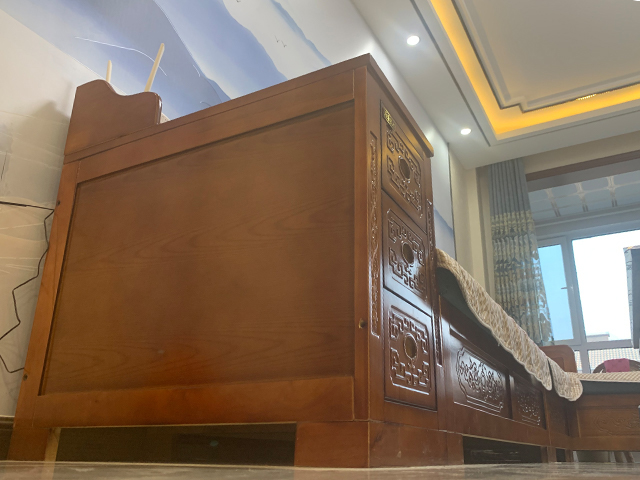sofa: (10, 51, 640, 467)
